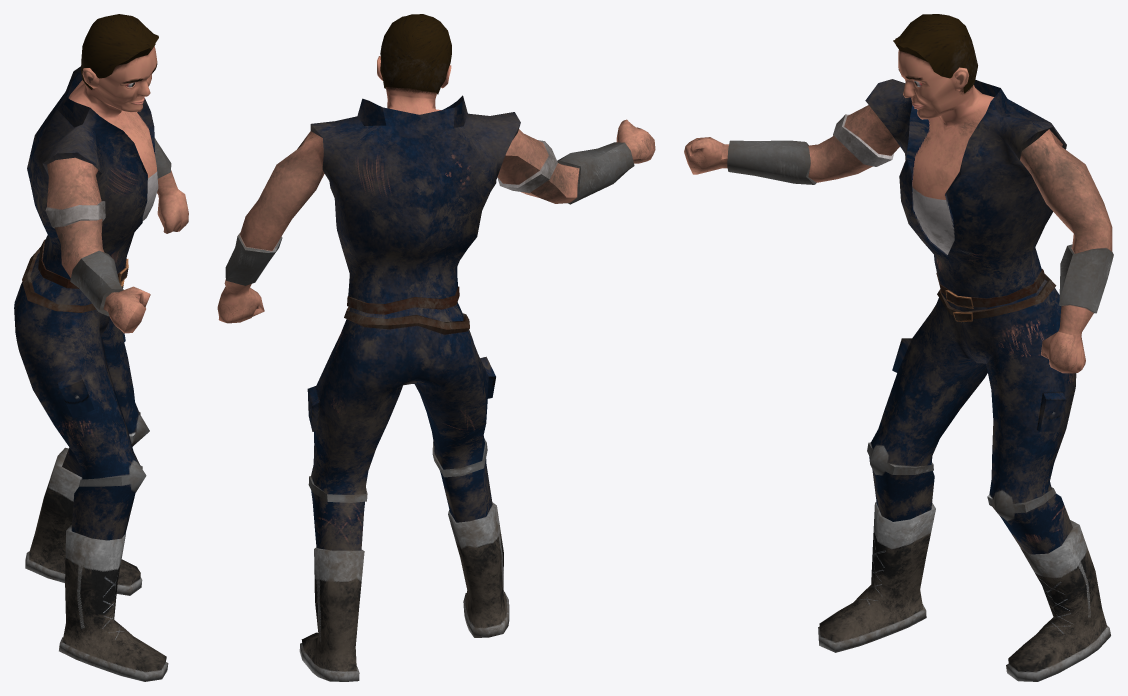
File: Anim_interruptor_jugador.0025.obj
3 renders of one model, left to right at view 1: azimuth 30°, elevation 25°; view 2: azimuth 150°, elevation 25°; view 3: azimuth 270°, elevation 25°, orthographic. The views are drawn at different scales.
Visible parts, largest first — view 1: polySurface1; view 2: polySurface1; view 3: polySurface1.
Boxes of the visible parts, box(x1,y1,x2,y2) form: polySurface1: box(14, 14, 188, 681); polySurface1: box(217, 14, 655, 681); polySurface1: box(684, 14, 1113, 681).
Size of the model in its own units: 4.04 by 9.36 by 5.74.
